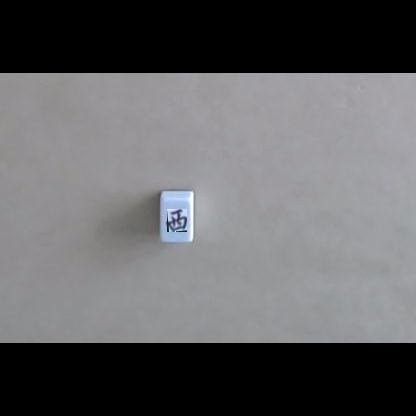3z: (167, 209, 187, 232)
